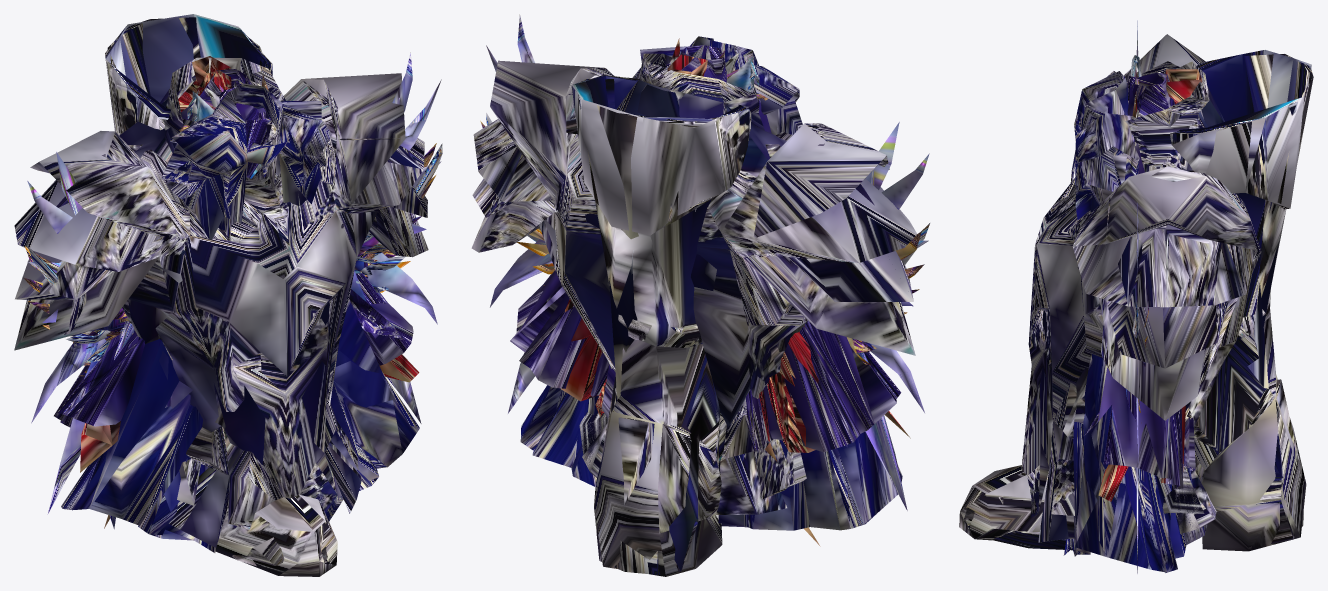
Rendered from loot-library.glb.
The picture shows the model from 3 angles, left to right: view 1: azimuth 30°, elevation 25°; view 2: azimuth 150°, elevation 25°; view 3: azimuth 270°, elevation 25°; orthographic projection. The views are drawn at different scales.
Parts seen in each view (by area): view 1: world (×8); view 2: world (×7); view 3: world (×6).
Boxes of the visible parts, bbox=[...] form: world (×8): bbox=[14, 14, 442, 576]; world (×7): bbox=[471, 14, 929, 576]; world (×6): bbox=[959, 20, 1313, 573].
Size of the model in its own units: 1 by 1 by 0.7112.
15 materials, 15 textured.
